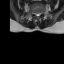CCS_stenosis: (37, 11, 38, 17)
LFS_normal: (40, 10, 42, 15)
LLS_normal: (38, 11, 40, 17)
RFS_normal: (33, 10, 35, 16)
RLS_normal: (35, 11, 37, 17)
